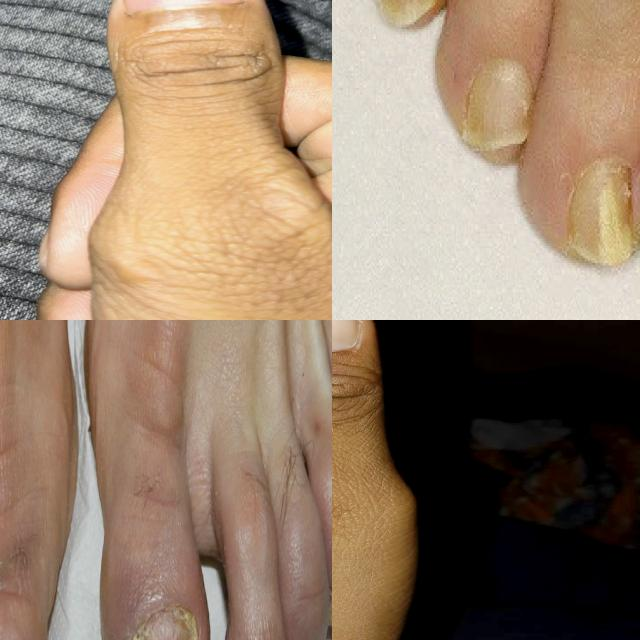diabetes: (567, 162, 637, 263), (465, 58, 535, 152), (130, 609, 197, 640), (380, 0, 433, 28)
